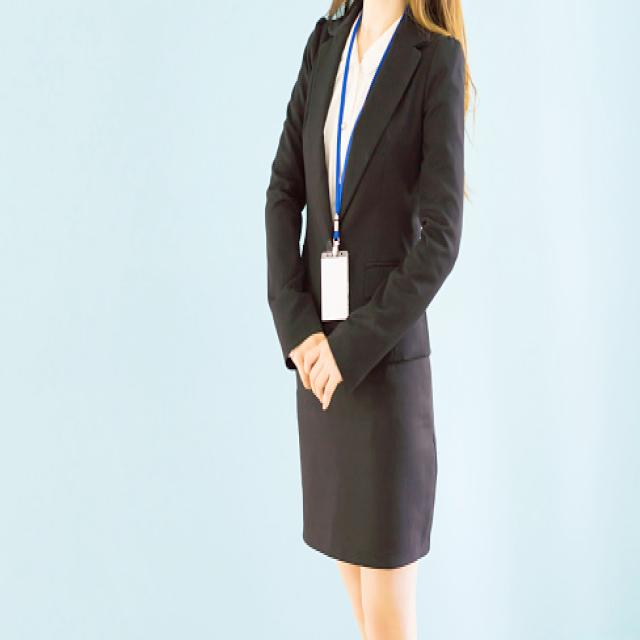ID_card: (319, 247, 349, 322)
